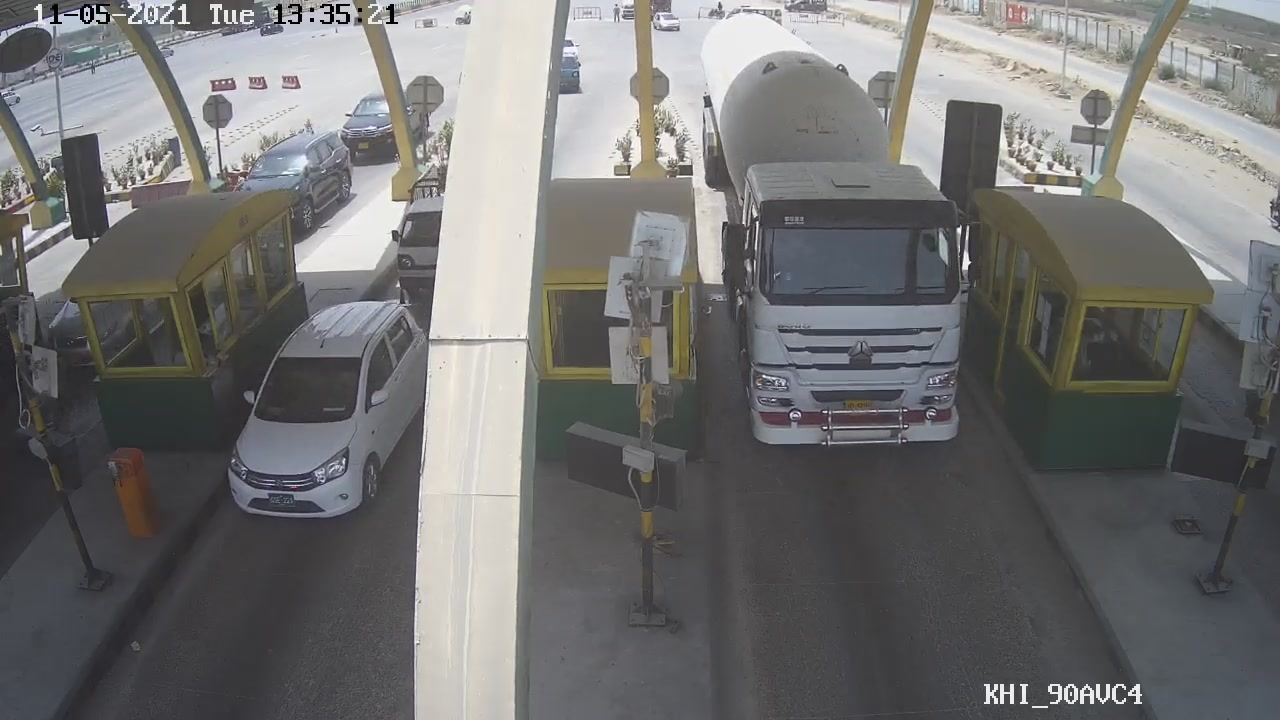F6: (694, 17, 989, 458)
